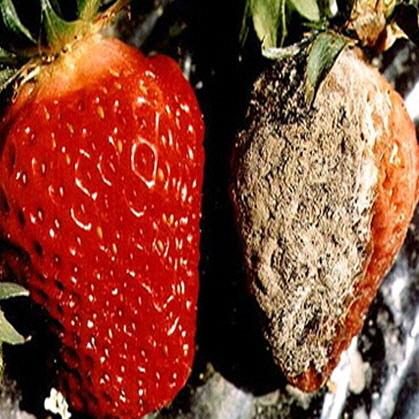Gray Mold: (230, 28, 418, 391)
